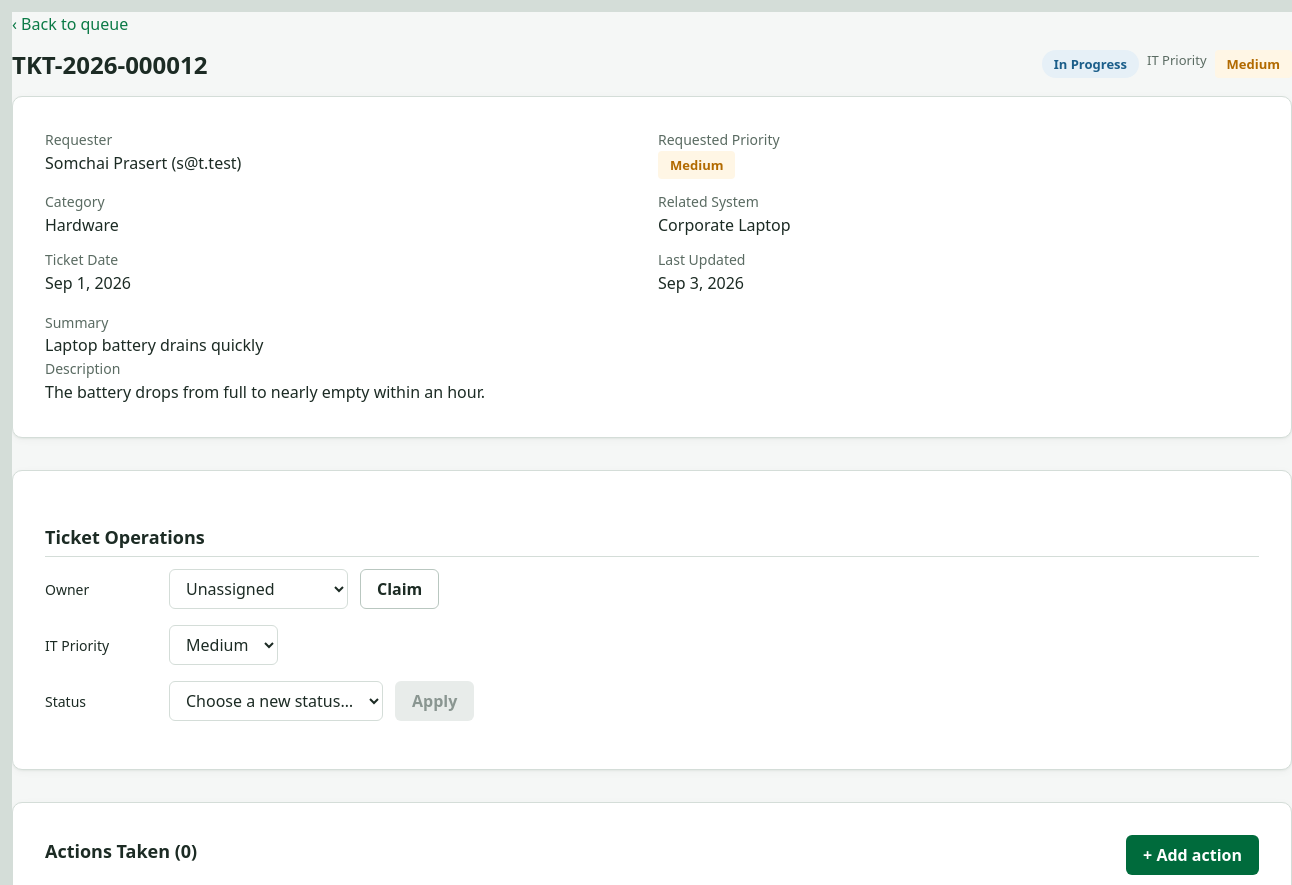
Test: IT Staff Ticket Detail › UI-23: status control › shows a conflict inline and reloads the ticket's real state
Select "Waiting for Requester" in the dropdown labelled "Status". click: [276, 701]
box: [169,681,383,721]
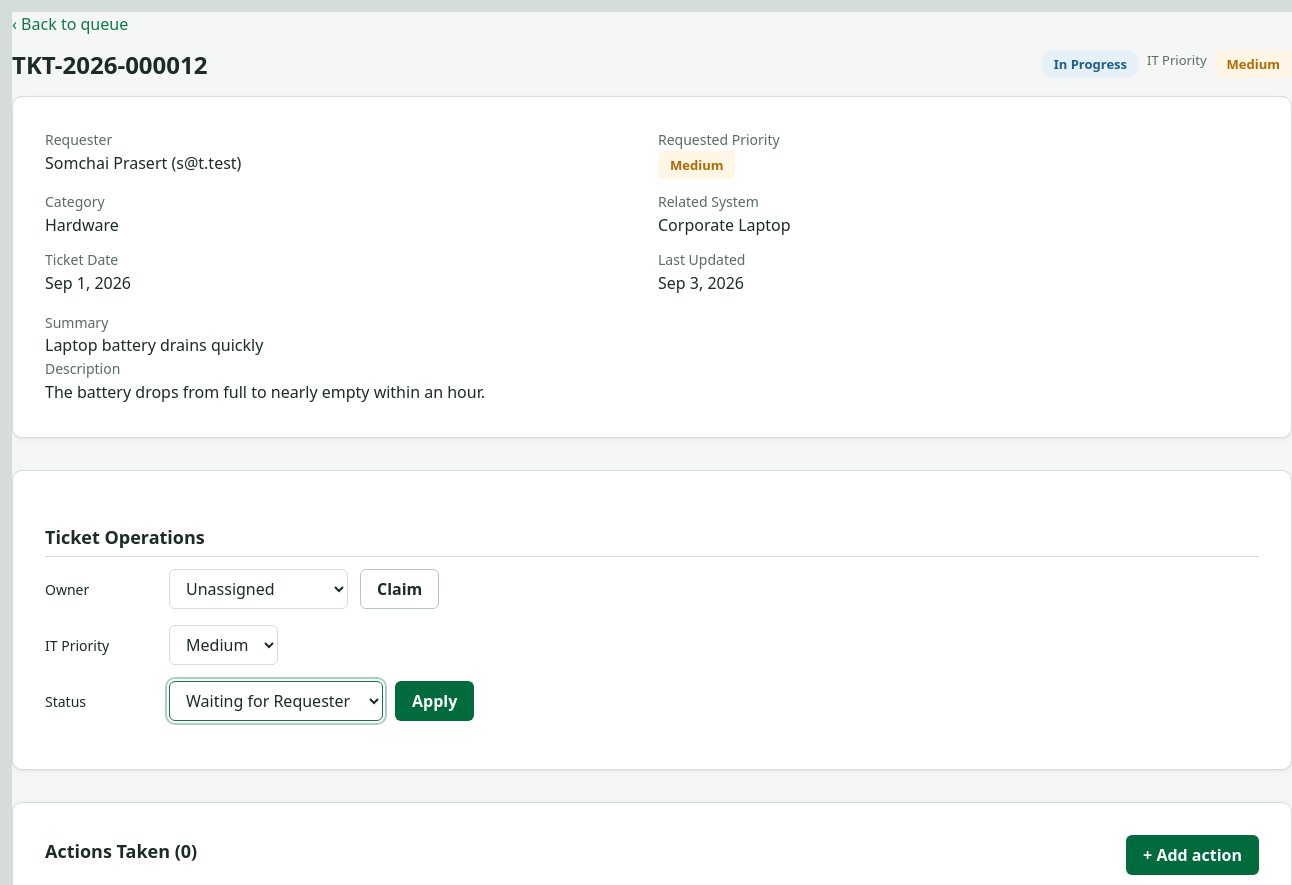
Click the button "Apply". click: [435, 701]
box: [395,681,474,721]
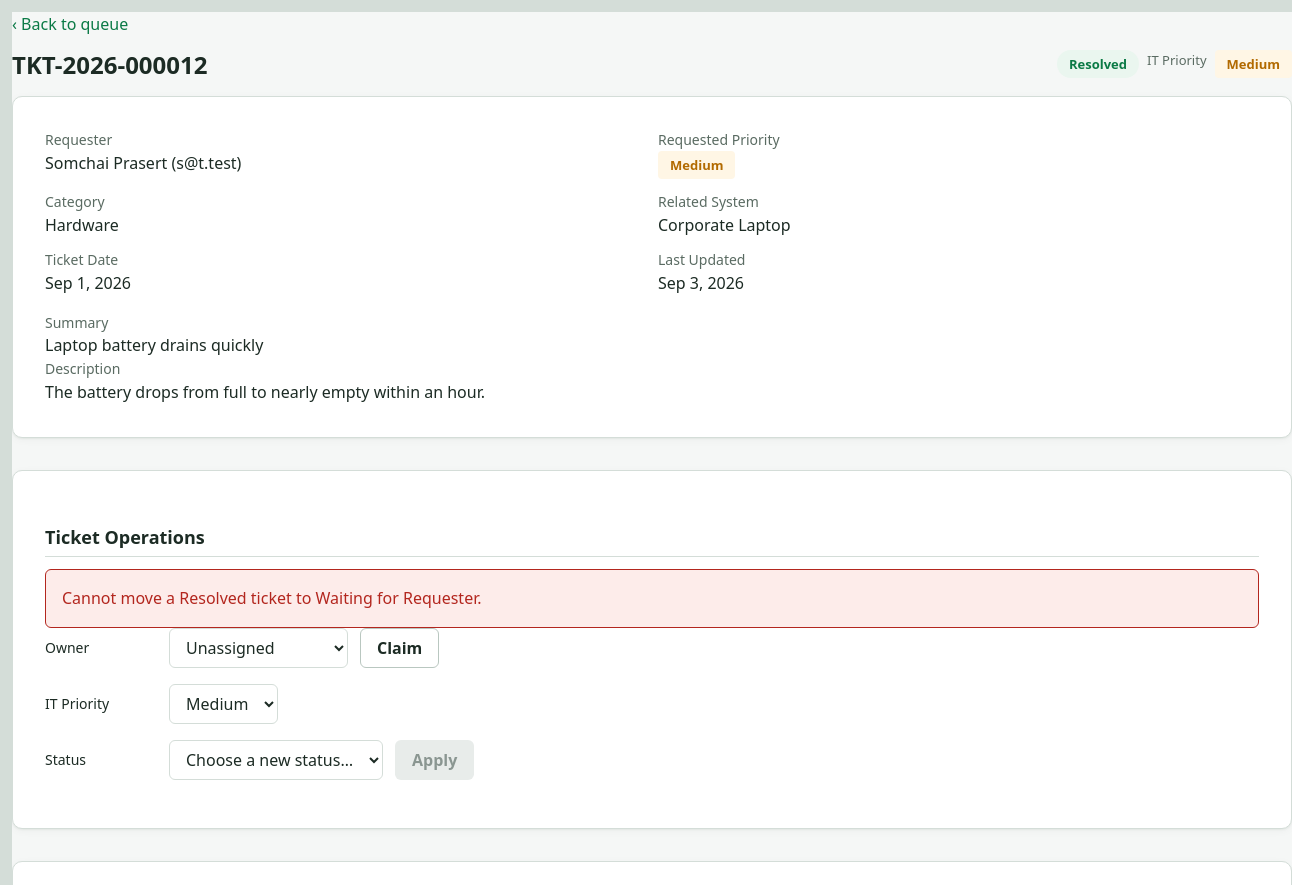
Check: the message shows "Cannot move a Resolved ticket", box [62,587,482,609]
